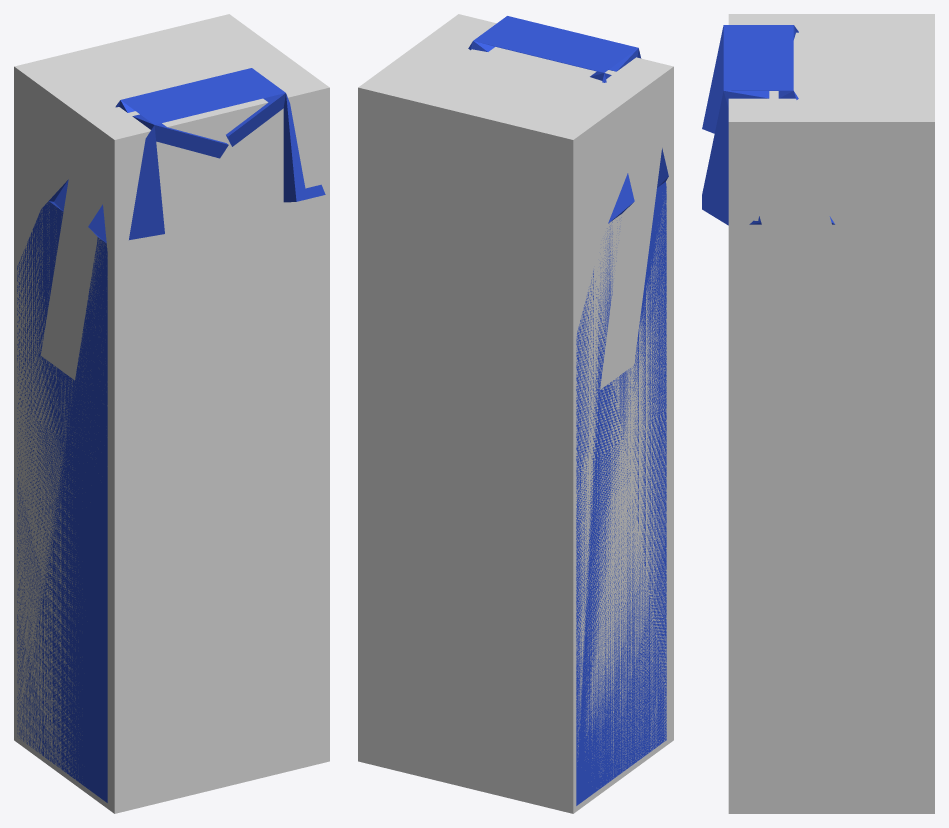
Rendered from Breaked.gltf.
3 views of the same model, side by side, from view 1: azimuth 30°, elevation 25°; view 2: azimuth 150°, elevation 25°; view 3: azimuth 270°, elevation 25° (orthographic). The views are drawn at different scales.
Visible parts, largest first — view 1: COL, Cube; view 2: COL, Cube; view 3: COL, Cube.
Part boxes in pixels (x1,y1,x2,y2): COL: (14, 14, 329, 813); Cube: (17, 68, 325, 802); COL: (358, 14, 673, 813); Cube: (468, 16, 668, 805); COL: (728, 14, 934, 813); Cube: (702, 25, 834, 225).
Bounding box in the file's own units: 1.16 × 3.3 × 0.9961.
